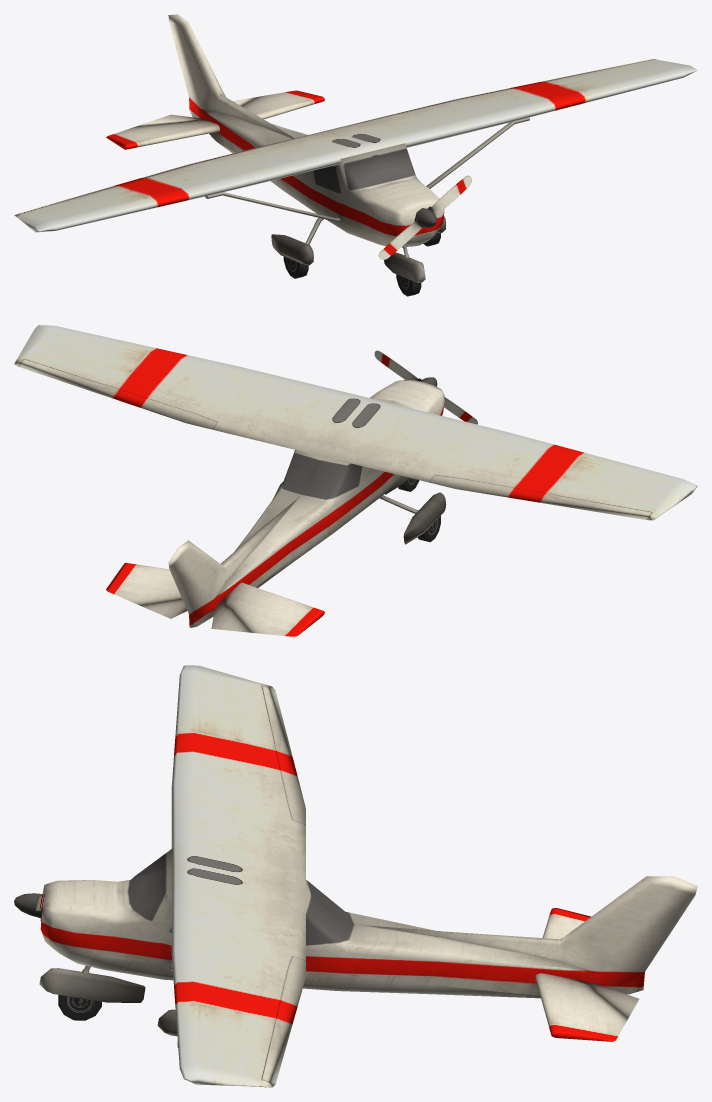
File: sportflugzeug_cessna.fbx
3 views of the same model, one above another, from view 1: azimuth 30°, elevation 25°; view 2: azimuth 150°, elevation 25°; view 3: azimuth 270°, elevation 25° (orthographic). The views are drawn at different scales.
Parts seen in each view (by area): view 1: body_main; view 2: body_main; view 3: body_main.
Boxes of the visible parts, left/top/right/bottom form: body_main: left=14, top=14, right=697, bottom=296; body_main: left=14, top=325, right=697, bottom=636; body_main: left=14, top=665, right=697, bottom=1087.
Size of the model in its own units: 984 by 172 by 689.
